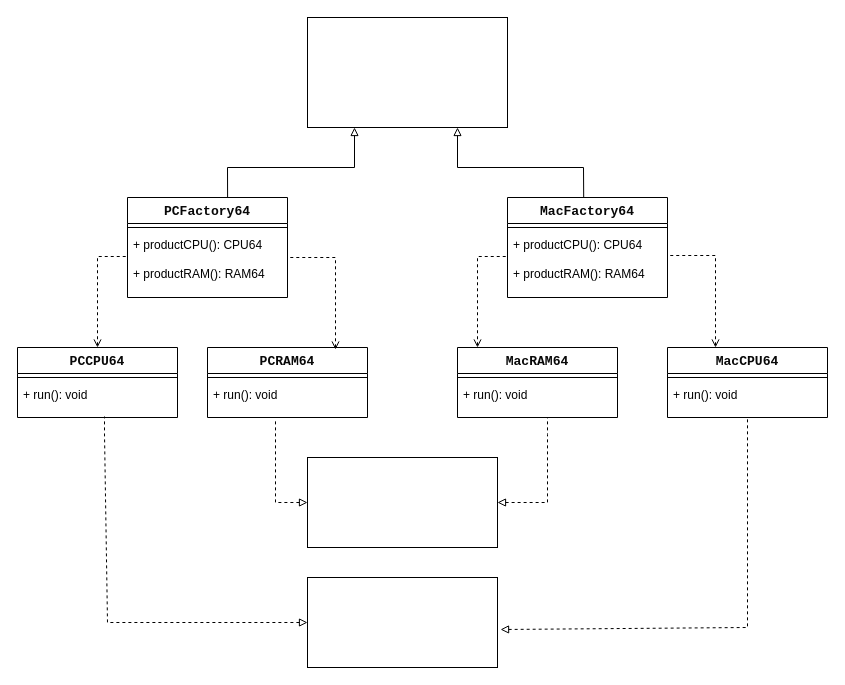
This 845x685 diagram has some shape labels left out. The centre of each missing label's shape, as x and y in pixels:
<<Interface>> ComputerFactory64 + productCPU(): CPU64 + productRAM() : RAM64: the point at 407,72
<<Interface>> CPU64 + run(): void: the point at 402,622
<<Interface>> RAM64 + run(): void: the point at 402,502
